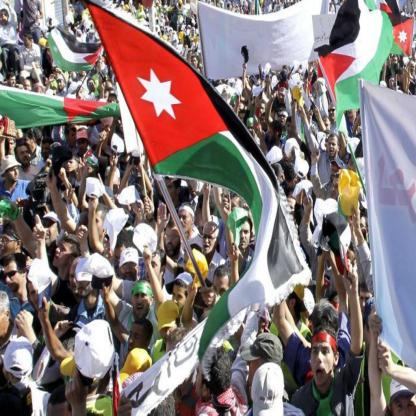face: (312, 341, 335, 386), (30, 282, 48, 313), (172, 282, 188, 316), (278, 287, 296, 317), (134, 288, 151, 319), (250, 347, 263, 385), (160, 319, 178, 346), (71, 265, 87, 294), (76, 269, 93, 296), (392, 397, 416, 416), (122, 258, 138, 285), (213, 279, 229, 306), (129, 326, 144, 354), (147, 259, 162, 287), (41, 218, 57, 244), (341, 235, 355, 264), (1, 232, 16, 259), (5, 267, 21, 292), (360, 293, 374, 320), (53, 243, 69, 265), (353, 222, 366, 248), (92, 213, 105, 239), (203, 229, 217, 253), (116, 253, 132, 273), (238, 225, 251, 249), (166, 230, 180, 252), (179, 212, 192, 235), (196, 360, 204, 396), (196, 201, 207, 227), (105, 173, 118, 194), (349, 159, 361, 181), (230, 203, 241, 224), (165, 182, 176, 203), (283, 204, 295, 223), (333, 178, 343, 199), (84, 164, 95, 183), (134, 160, 145, 179), (7, 165, 19, 182), (332, 168, 343, 186), (18, 148, 30, 164), (329, 140, 339, 158), (67, 157, 77, 173), (78, 139, 87, 156), (348, 100, 356, 117), (25, 135, 34, 150), (42, 144, 51, 158), (274, 175, 285, 186), (70, 132, 78, 147), (7, 138, 15, 153), (287, 123, 295, 137), (270, 129, 278, 143), (329, 107, 337, 120), (280, 114, 288, 126), (109, 99, 117, 111), (323, 123, 330, 136), (238, 107, 245, 120), (279, 91, 286, 103), (248, 125, 255, 137), (77, 85, 84, 97), (293, 172, 299, 186), (1, 11, 8, 23), (259, 106, 266, 117), (240, 116, 247, 127), (390, 79, 396, 90), (24, 84, 31, 93), (89, 82, 95, 92), (58, 80, 64, 90), (10, 77, 16, 87), (104, 129, 110, 138), (24, 37, 30, 46), (393, 58, 398, 68), (249, 81, 254, 90), (411, 66, 416, 74), (105, 55, 109, 65), (89, 33, 94, 40), (193, 59, 197, 67), (55, 68, 60, 74), (78, 32, 83, 38), (192, 29, 196, 36), (51, 74, 55, 80), (99, 61, 102, 68), (95, 23, 98, 30), (83, 71, 87, 76), (189, 54, 192, 60), (179, 4, 182, 10), (229, 5, 232, 10), (157, 3, 160, 6)
